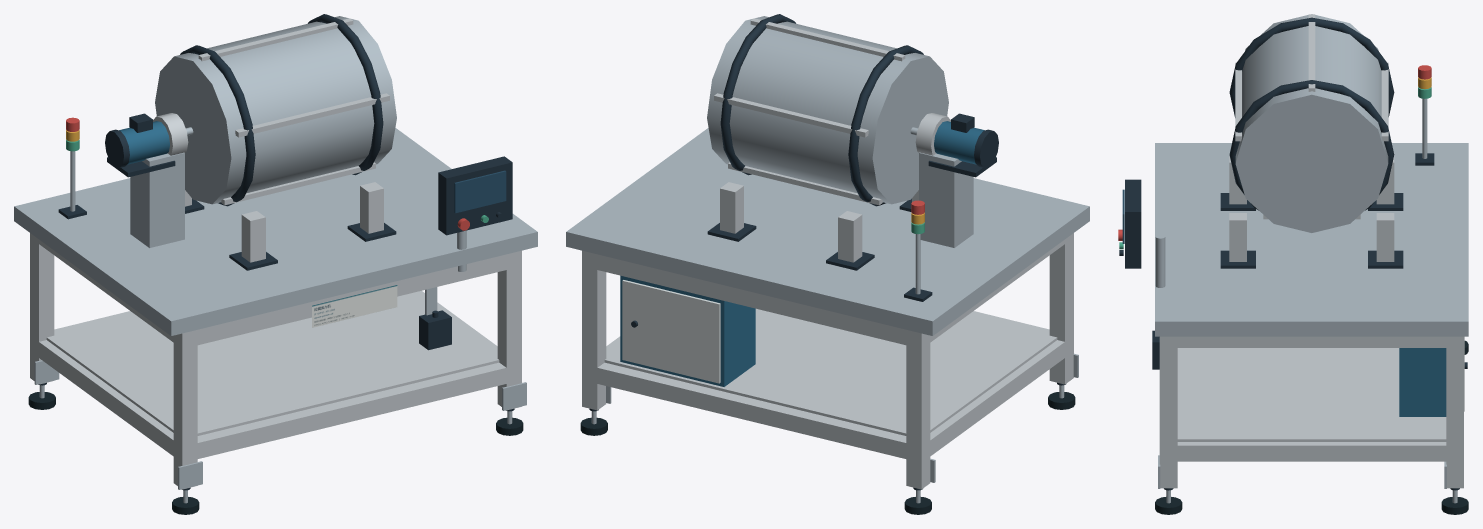
File: capsule-polisher-cell.glb
3 renders of one model, left to right at view 1: azimuth 30°, elevation 25°; view 2: azimuth 150°, elevation 25°; view 3: azimuth 270°, elevation 25°, orthographic.
Visible parts, largest first — view 1: ClosedMachineBed_28, LowerShelf_29, DrumShell_56, SlottedExtrusion_22, DrumDriveStand_71, SlottedExtrusion_23, SlottedExtrusion_8, SlottedExtrusion_24, ConsoleBack_34, SlottedExtrusion_18, SlottedExtrusion_3, OriginalNameplate_42 (+15 smaller); view 2: ClosedMachineBed_28, DrumShell_56, LowerShelf_29, BackDoor_31, SlottedExtrusion_20, SlottedExtrusion_21, DrumDriveStand_71, SlottedExtrusion_3, Cabinet_30, SlottedExtrusion_13, SlottedExtrusion_24, SlottedExtrusion_8 (+11 smaller); view 3: ClosedMachineBed_28, DrumShell_56, LowerShelf_29, SlottedExtrusion_26, SlottedExtrusion_27, Cabinet_30, SlottedExtrusion_18, SlottedExtrusion_13, DrumBand_58, DrumBand_57, ConsoleBack_34, SlottedExtrusion_52 (+11 smaller).
Boxes of the visible parts, x1,y1,x2,y2 form: ClosedMachineBed_28: (14, 128, 537, 335); LowerShelf_29: (46, 292, 499, 435); DrumShell_56: (155, 16, 396, 204); SlottedExtrusion_22: (190, 362, 506, 460); DrumDriveStand_71: (130, 152, 184, 247); SlottedExtrusion_23: (190, 254, 506, 346); SlottedExtrusion_8: (173, 330, 197, 489); SlottedExtrusion_24: (35, 340, 177, 459); ConsoleBack_34: (438, 156, 512, 235); SlottedExtrusion_18: (497, 250, 521, 410); SlottedExtrusion_3: (30, 233, 54, 384); OriginalNameplate_42: (312, 285, 397, 327); ClosedMachineBed_28: (566, 128, 1089, 335); DrumShell_56: (707, 16, 948, 204); LowerShelf_29: (604, 308, 1057, 435); BackDoor_31: (622, 280, 720, 383); SlottedExtrusion_20: (597, 362, 913, 460); SlottedExtrusion_21: (593, 254, 913, 346); DrumDriveStand_71: (919, 152, 973, 247); SlottedExtrusion_3: (906, 330, 930, 489); Cabinet_30: (620, 275, 755, 386); SlottedExtrusion_13: (582, 250, 606, 410); SlottedExtrusion_24: (930, 339, 1069, 456); SlottedExtrusion_8: (1049, 233, 1073, 384); ClosedMachineBed_28: (1155, 143, 1468, 336); DrumShell_56: (1235, 14, 1388, 232); LowerShelf_29: (1177, 348, 1446, 441); SlottedExtrusion_26: (1168, 442, 1455, 461); SlottedExtrusion_27: (1168, 336, 1455, 347); Cabinet_30: (1399, 348, 1446, 416); SlottedExtrusion_18: (1159, 336, 1177, 488); SlottedExtrusion_13: (1446, 336, 1463, 488); DrumBand_58: (1229, 80, 1394, 210); DrumBand_57: (1229, 17, 1394, 117); ConsoleBack_34: (1125, 179, 1141, 268); SlottedExtrusion_52: (1376, 213, 1394, 261).
Bounding box in the file's own units: 1.55 × 1.54 × 1.29.
Materials: 11 (1 with a texture image).
